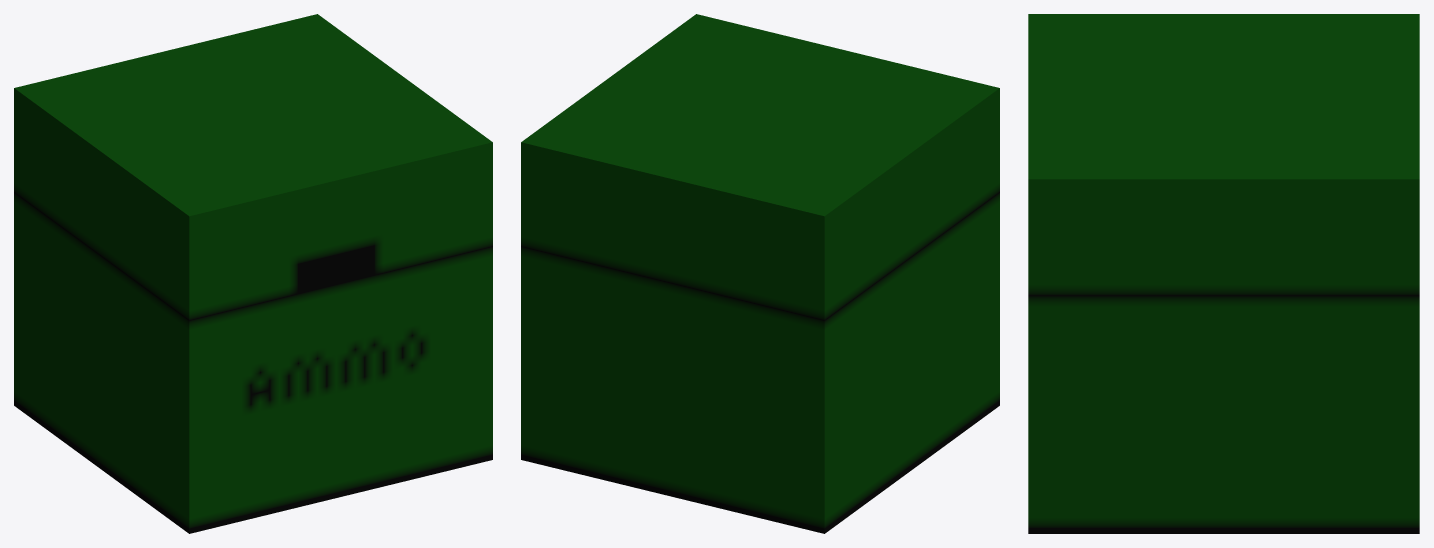
Rendered from Ammobox.fbx.
The picture shows the model from 3 angles, left to right: view 1: azimuth 30°, elevation 25°; view 2: azimuth 150°, elevation 25°; view 3: azimuth 270°, elevation 25°; orthographic projection. The views are drawn at different scales.
Visible parts, largest first — view 1: Matrix; view 2: Matrix; view 3: Matrix.
Part boxes in pixels (x1,y1,x2,y2): Matrix: (14, 14, 492, 533); Matrix: (521, 14, 999, 533); Matrix: (1028, 14, 1419, 533).
Bounding box in the file's own units: 32 × 32 × 32.
Materials: 1 (1 with a texture image).
